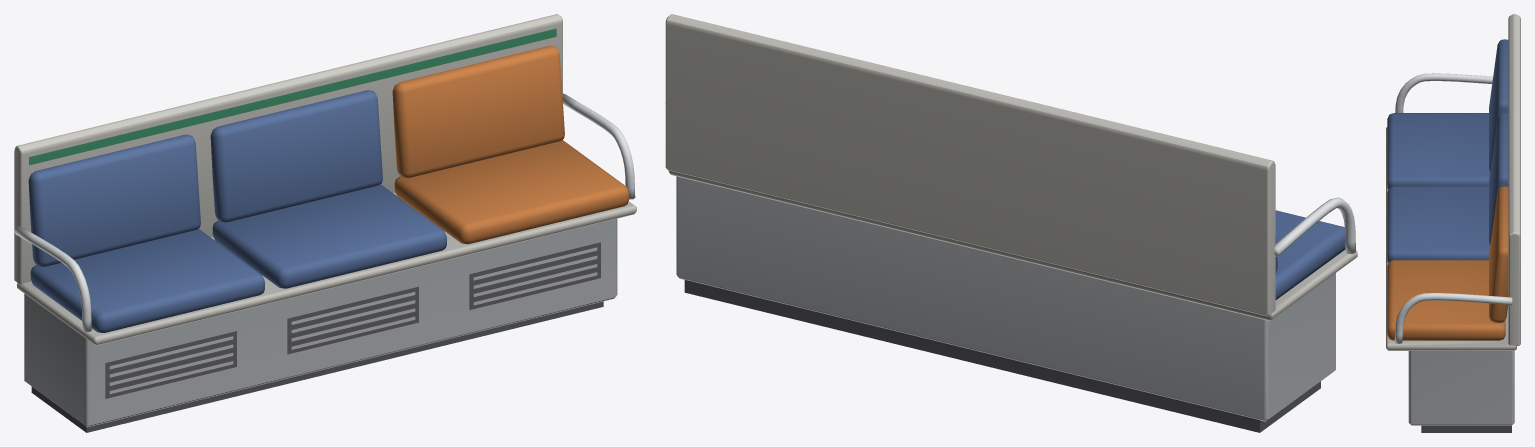
Rendered from metro_bench.glb.
3 views of the same model, side by side, from view 1: azimuth 30°, elevation 25°; view 2: azimuth 150°, elevation 25°; view 3: azimuth 270°, elevation 25° (orthographic). The views are drawn at different scales.
Parts seen in each view (by area): view 1: train_metro_bench; view 2: train_metro_bench; view 3: train_metro_bench.
Boxes of the visible parts, <box> form: train_metro_bench: <box>14,14,636,432</box>; train_metro_bench: <box>665,14,1357,432</box>; train_metro_bench: <box>1386,14,1520,432</box>.
Bounding box in the file's own units: 2.09 × 0.9 × 0.535.
